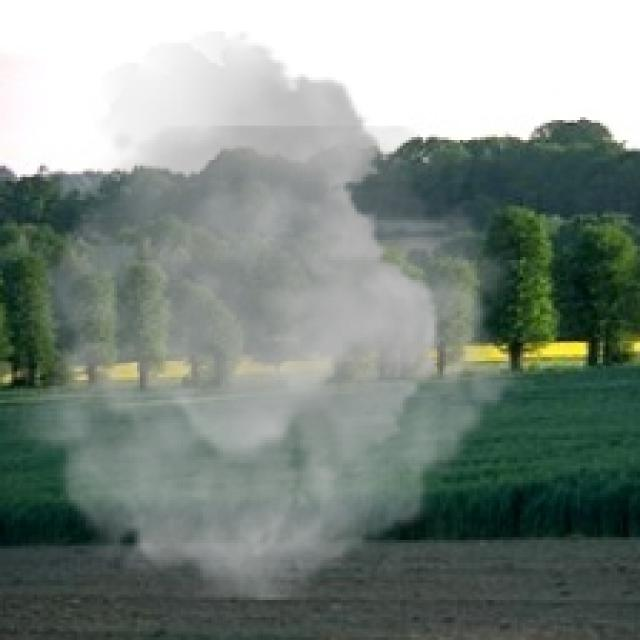smoke: (0, 31, 537, 600)
